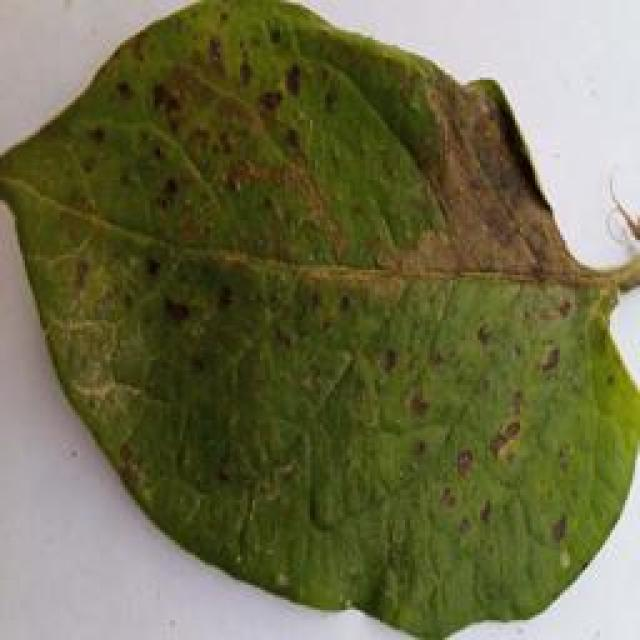Potato_Late_Blight: (6, 11, 630, 629)
